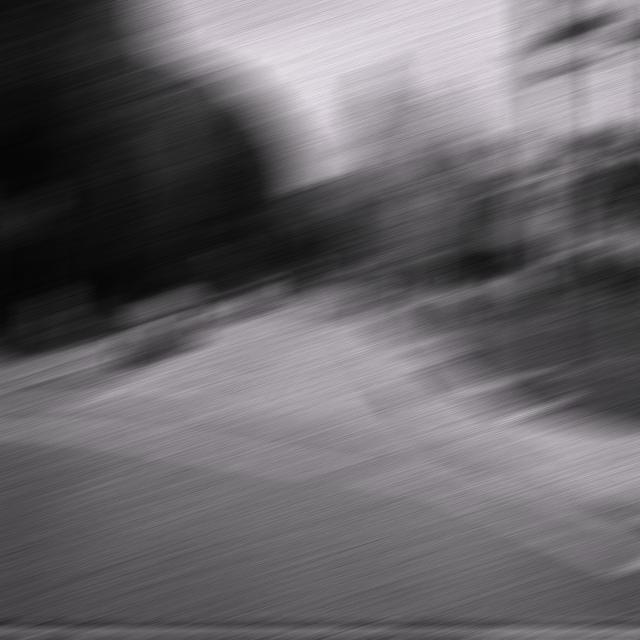pedestrianCrossing: (506, 108, 576, 202)
